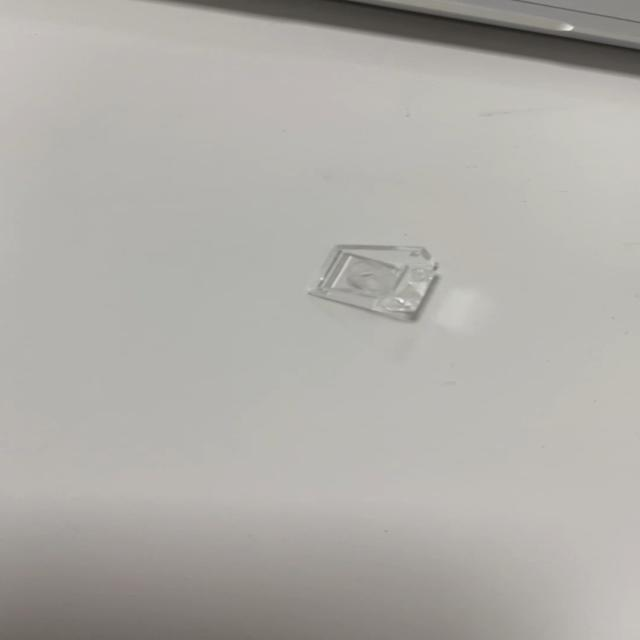P2x2x1: (305, 242, 440, 322)
